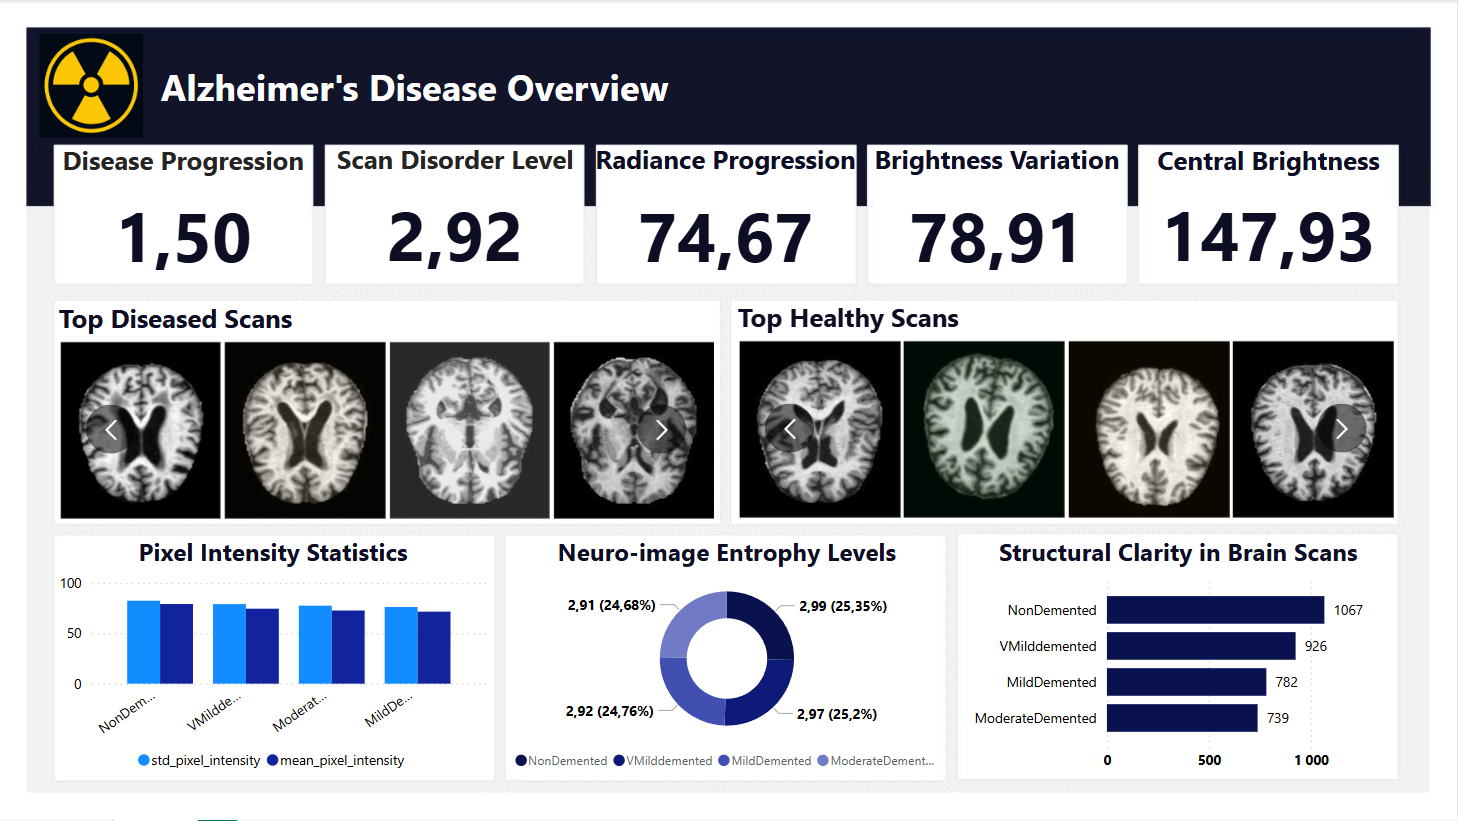

The page's visual inventory and layout, read from the dashboard file:
{"tool":"powerbi","page":{"name":"Strona 1","canvas":[1280,720],"ordinal":0},"visuals":[{"type":"card","title":"Disease Progression","fields":{"Values":["All_Disease1.Disease Progression"]},"box":[47.6,125.5,228.7,127],"z":0},{"type":"card","title":"Scan Disorder Level","fields":{"Values":["All_Disease1.Scan Disorder Level"]},"box":[286.4,125,228.6,126.4],"z":1000},{"type":"card","title":"Radiance Progression","fields":{"Values":["All_Disease1.Radiance Progression"]},"box":[515,125,245,128],"z":2000},{"type":"card","title":"Brightness Variation","fields":{"Values":["All_Disease1.Brightness Variation"]},"box":[760,125,231.7,128.3],"z":3000},{"type":"card","title":"Central Brightness","fields":{"Values":["All_Disease1.Central Brightness Trend"]},"box":[999.2,125.8,230.8,125.8],"z":4000},{"type":"ImageCarouselByMAQSoftware1448688110701","title":"Top Diseased Scans","fields":{"ImageData":["All_Disease_2.URL"]},"box":[47.7,264.3,584.9,195.7],"z":5000},{"type":"ImageCarouselByMAQSoftware1448688110701","title":"Top Healthy Scans","fields":{"ImageData":["All_Disease_2.URL"]},"box":[643.7,263.8,586.2,195.5],"z":6000},{"type":"donutChart","title":"Neuro-image Entrophy Levels","fields":{"Category":["All_Disease1.Label"],"Y":["Avg(All_Disease1.entropy)"]},"box":[446.7,470,384.4,215.6],"z":7000},{"type":"clusteredBarChart","title":"Structural Clarity in Brain Scans","fields":{"Category":["All_Disease1.Label"],"Y":["Sum(All_Disease1.edge_density)"]},"box":[843.4,470,383.4,215.5],"z":8000},{"type":"clusteredColumnChart","title":"Pixel Intensity Statistics","fields":{"Y":["Avg(All_Disease1.std_pixel_intensity)","Avg(All_Disease1.mean_pixel_intensity)"],"Category":["All_Disease1.Label"]},"box":[47.8,470,386.7,215.6],"z":9000},{"type":"image","box":[25.7,24.3,111.4,101.4],"z":10000},{"type":"textbox","box":[137.1,48.6,500,52.9],"z":10001}]}

Visuals, with their boxes in screenshot pixels (x1, y1, x2, y2), scaled from the page's 1280x720 canvas onto the 1458x821 screenshot:
"Disease Progression" card: BBox(54, 143, 315, 288)
"Scan Disorder Level" card: BBox(326, 143, 587, 287)
"Radiance Progression" card: BBox(587, 143, 866, 288)
"Brightness Variation" card: BBox(866, 143, 1130, 289)
"Central Brightness" card: BBox(1138, 143, 1401, 287)
"Top Diseased Scans" ImageCarouselByMAQSoftware1448688110701: BBox(54, 301, 721, 525)
"Top Healthy Scans" ImageCarouselByMAQSoftware1448688110701: BBox(733, 301, 1401, 524)
"Neuro-image Entrophy Levels" donutChart: BBox(509, 536, 947, 782)
"Structural Clarity in Brain Scans" clusteredBarChart: BBox(961, 536, 1397, 782)
"Pixel Intensity Statistics" clusteredColumnChart: BBox(54, 536, 495, 782)
image: BBox(29, 28, 156, 143)
textbox: BBox(156, 55, 726, 116)
